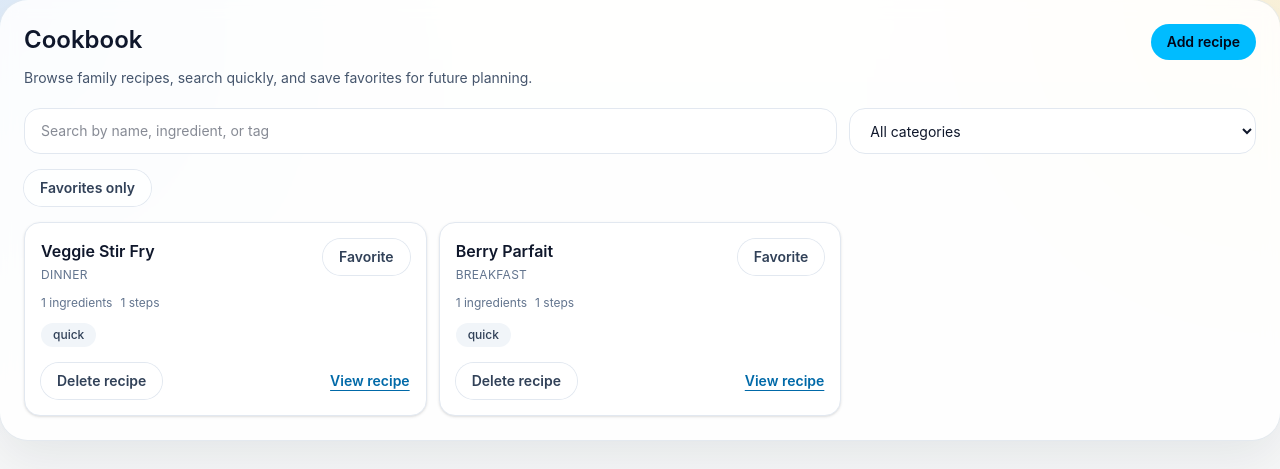
Test case: CookbookPage › filters recipes by search and category
Expected: the link "Veggie Stir Fry" is shown, [41,241,155,261]
Type "berry" into the field named "Search recipes" at [431, 131], box [24,108,837,154]
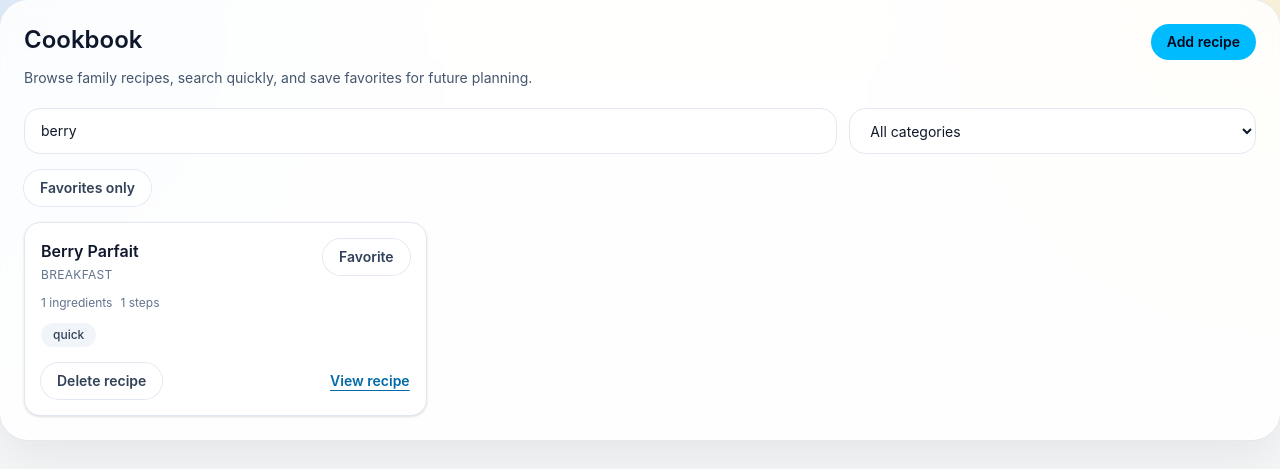
Expected: the link "Berry Parfait" is shown, [41,241,138,261]
Now the link "Veggie Stir Fry" is gone
Select "dinner" in the dropdown named "Filter by category" at [1053, 131], box [849,108,1256,154]
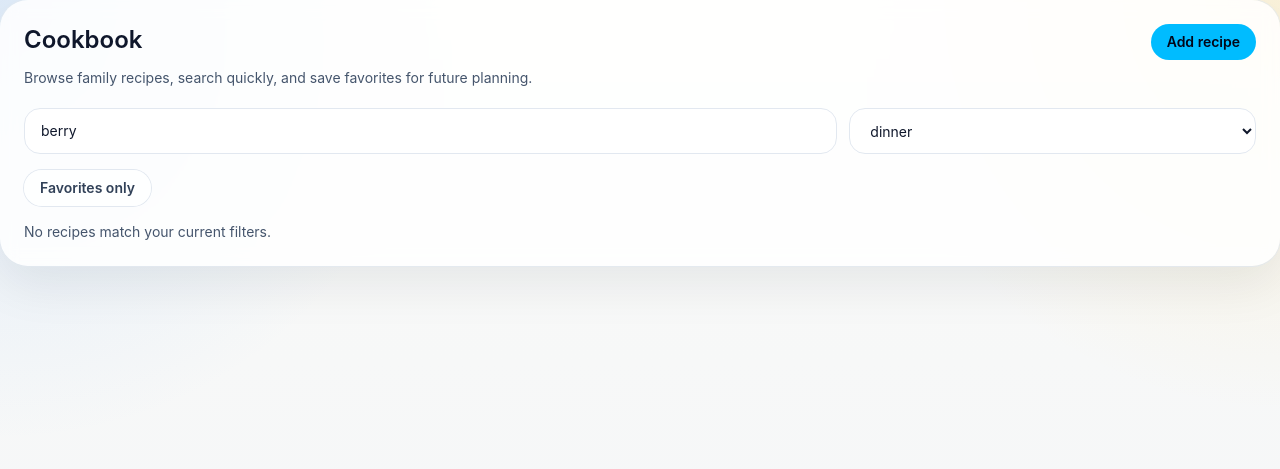
Now the text "No recipes match your current filters." is shown, box [24,223,271,240]
